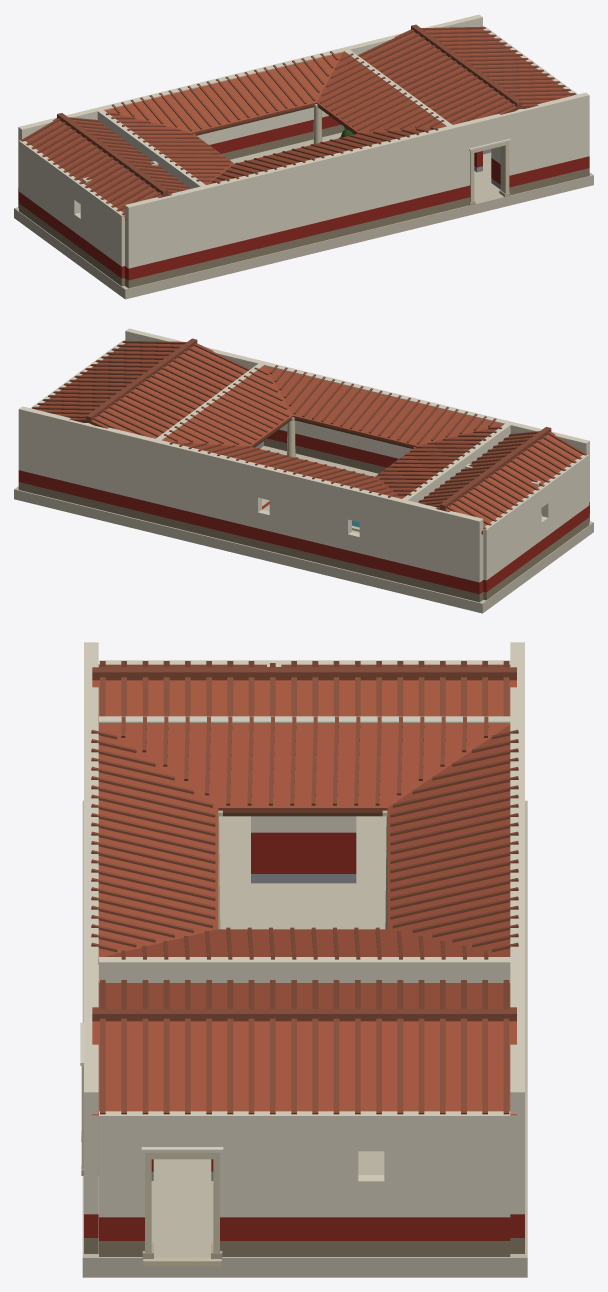
File: rome_domus_o.glb
3 views of the same model, one above another, from view 1: azimuth 30°, elevation 25°; view 2: azimuth 150°, elevation 25°; view 3: azimuth 270°, elevation 25° (orthographic). The views are drawn at different scales.
Visible parts, largest first — view 1: rome_domus_o; view 2: rome_domus_o; view 3: rome_domus_o.
Part boxes in pixels (bbox=[...]): rome_domus_o: bbox=[14, 14, 593, 299]; rome_domus_o: bbox=[14, 328, 593, 613]; rome_domus_o: bbox=[80, 642, 527, 1277].
Bounding box in the file's own units: 32.2 × 6.39 × 13.22.
